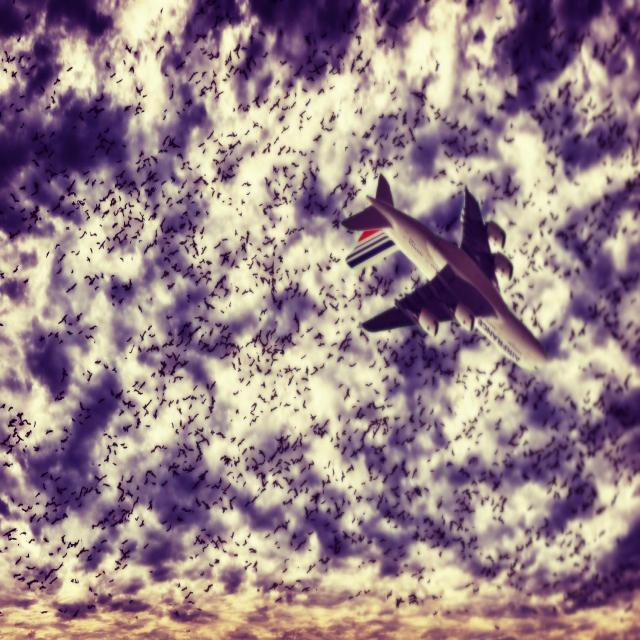airplane: (341, 173, 547, 372)
